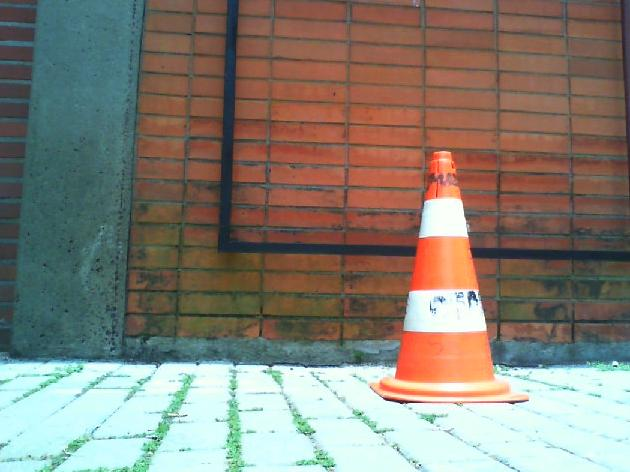0 cone: (370, 152, 527, 405)
